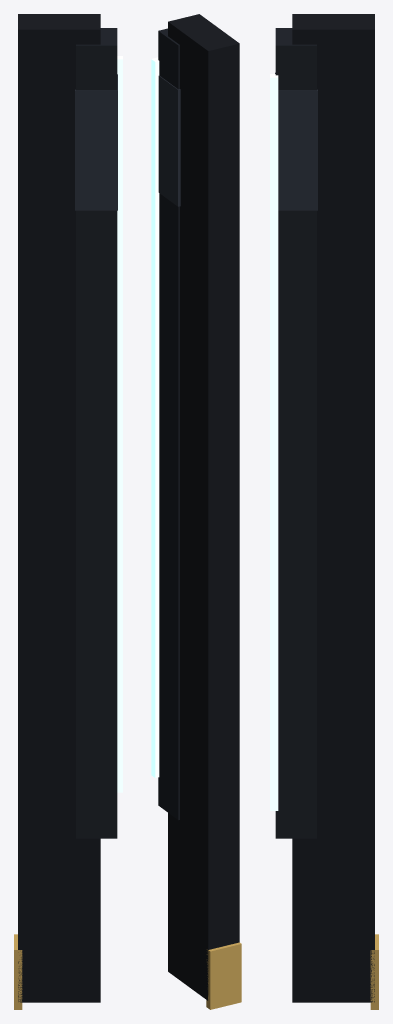
The model's file is ram-ddr5.glb.
3 views of the same model, side by side, from view 1: azimuth 90°, elevation 25°; view 2: azimuth 210°, elevation 25°; view 3: azimuth 270°, elevation 25° (orthographic). The views are drawn at different scales.
Parts seen in each view (by area): view 1: PCB, Disipador, Acento, Tira, Contactos; view 2: PCB, Disipador, Tira, Acento, Contactos; view 3: PCB, Disipador, Tira, Acento, Contactos.
Part boxes in pixels (x1,y1,x2,y2): PCB: (18, 14, 100, 1002); Disipador: (76, 28, 117, 838); Acento: (75, 74, 117, 210); Tira: (117, 56, 122, 792); Contactos: (14, 934, 22, 1009); PCB: (168, 14, 239, 1000); Disipador: (158, 28, 179, 819); Tira: (151, 57, 159, 777); Acento: (158, 75, 180, 206); Contactos: (206, 942, 241, 1009); PCB: (292, 14, 374, 1002); Disipador: (275, 28, 316, 838); Tira: (270, 74, 278, 810); Acento: (275, 72, 317, 210); Contactos: (370, 934, 378, 1009).
Bounding box in the file's own units: 0.57 × 13.1 × 1.32.
